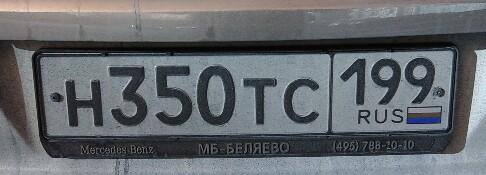license-plateSW: (33, 47, 463, 139)
